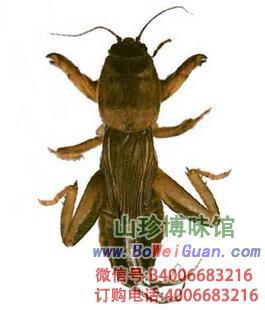pest: (89, 37, 172, 287)
